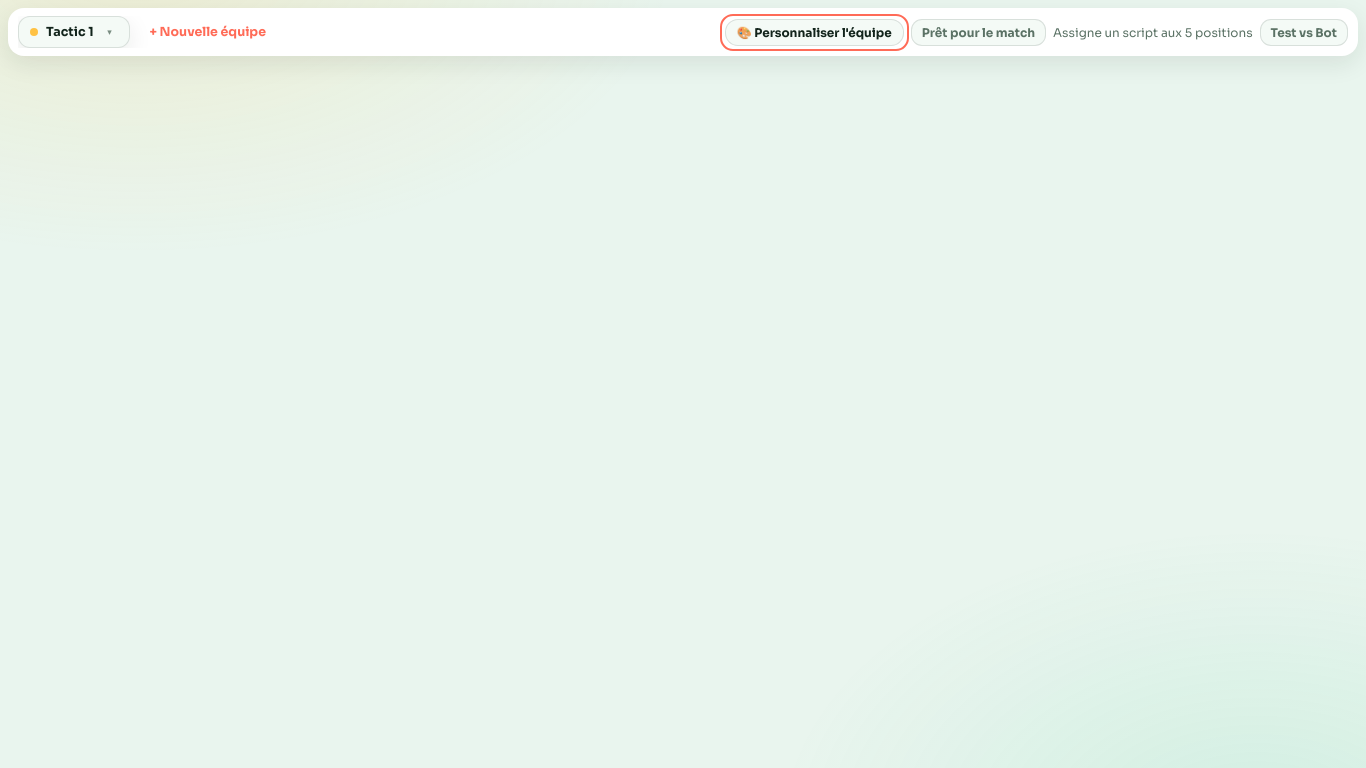
Test case: Teambar Component › should rename through the caret menu with Enter commit
Click the button with test id "team-caret" at (110, 32), box [102, 24, 118, 40]
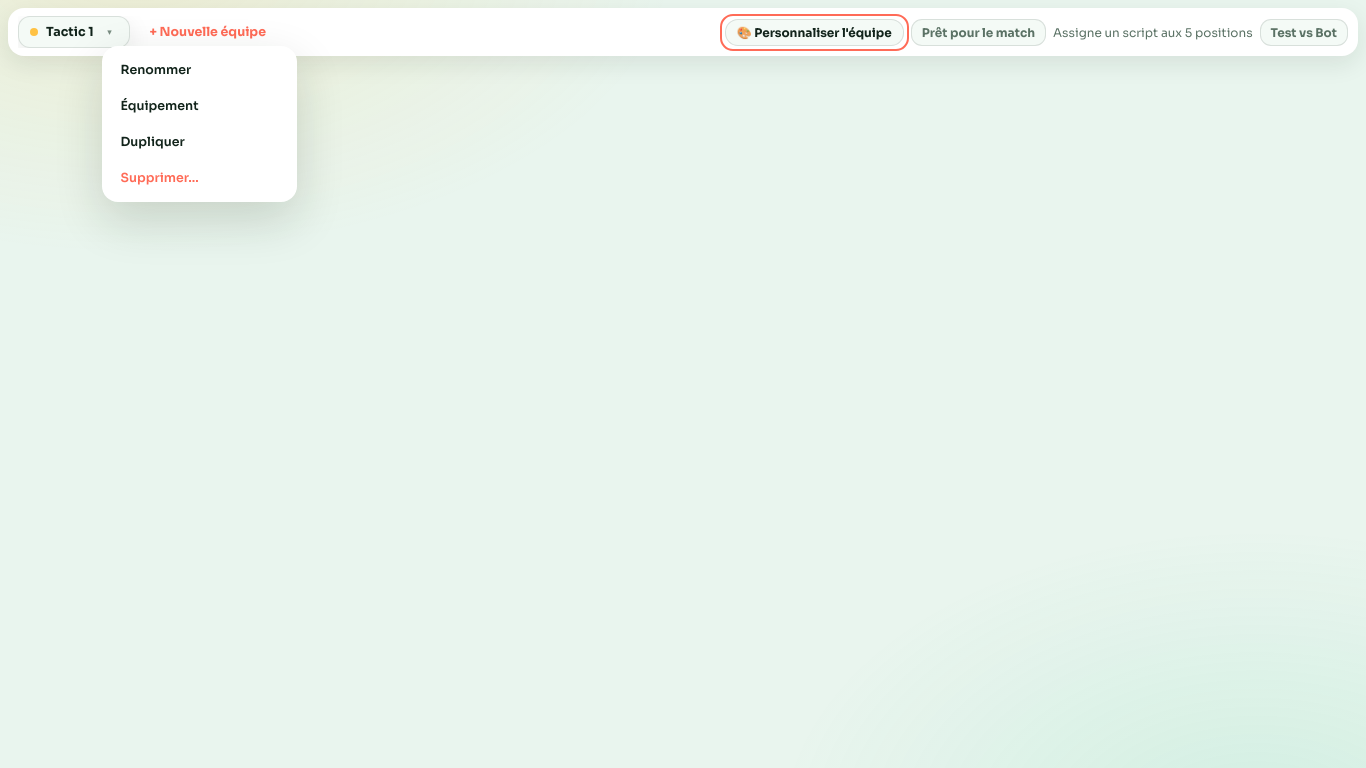
Result: the element with test id "team-menu" is shown at [102, 46, 296, 202]
Click the button with test id "team-rename" at (199, 70), box [108, 53, 290, 87]
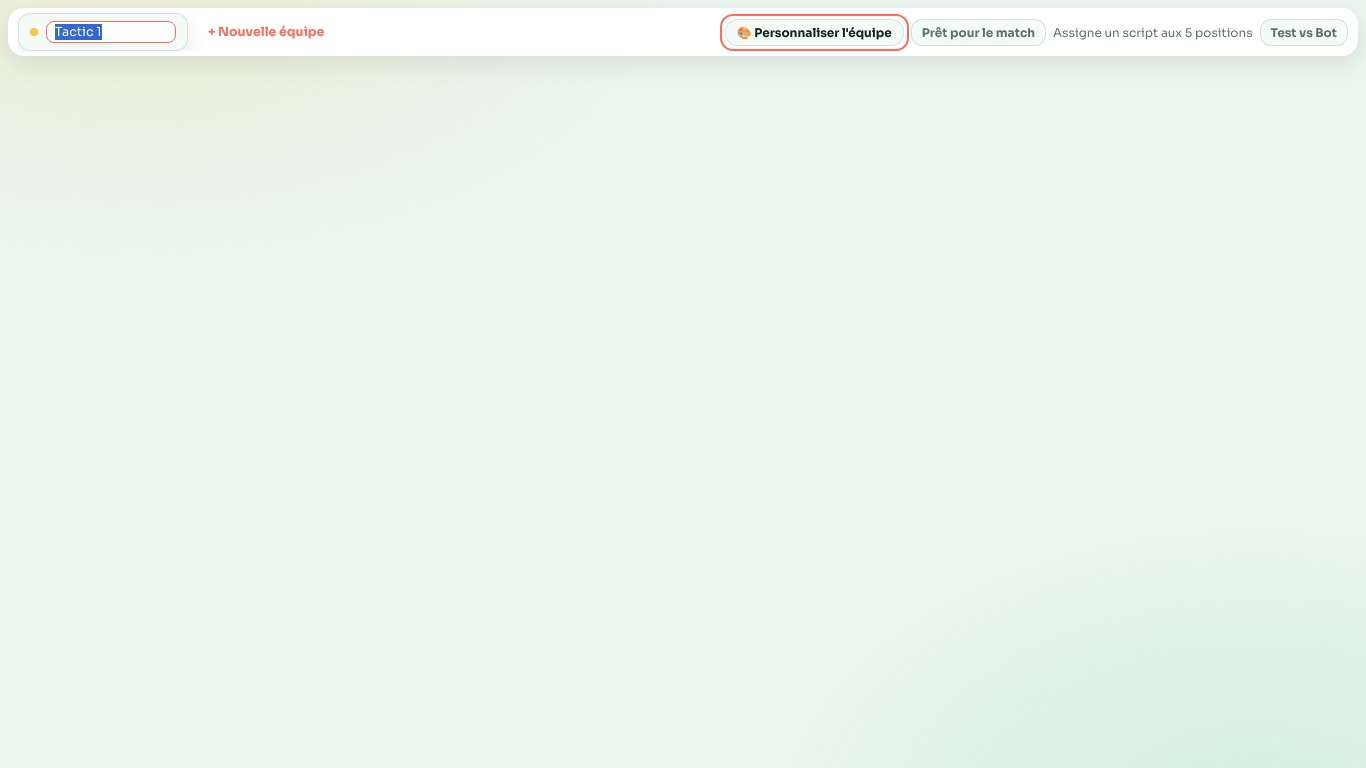
Result: the field with test id "team-rename-input" holds "Tactic 1"
Replace the text in the field with test id "team-rename-input" with "Attacking" at (111, 32), box [46, 21, 176, 43]
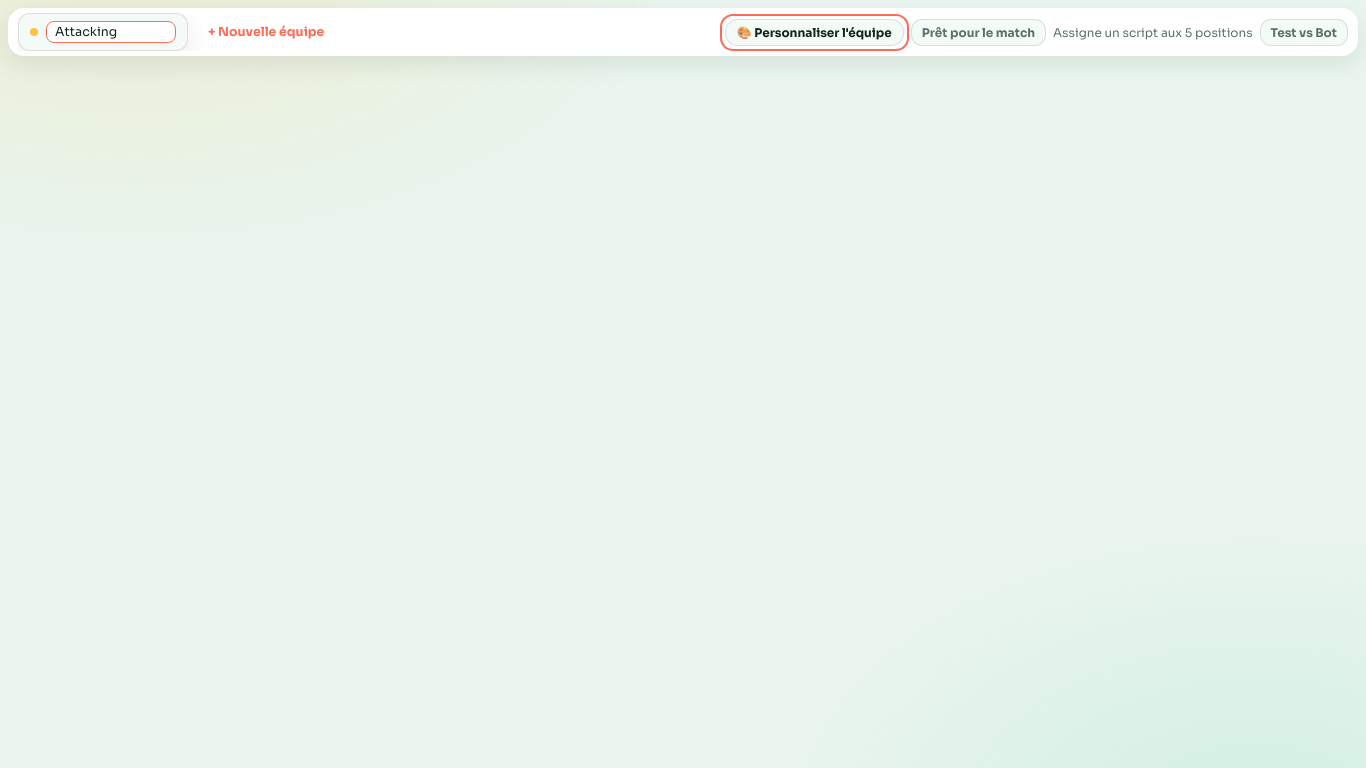
Press Enter in the field with test id "team-rename-input", box [46, 21, 176, 43]
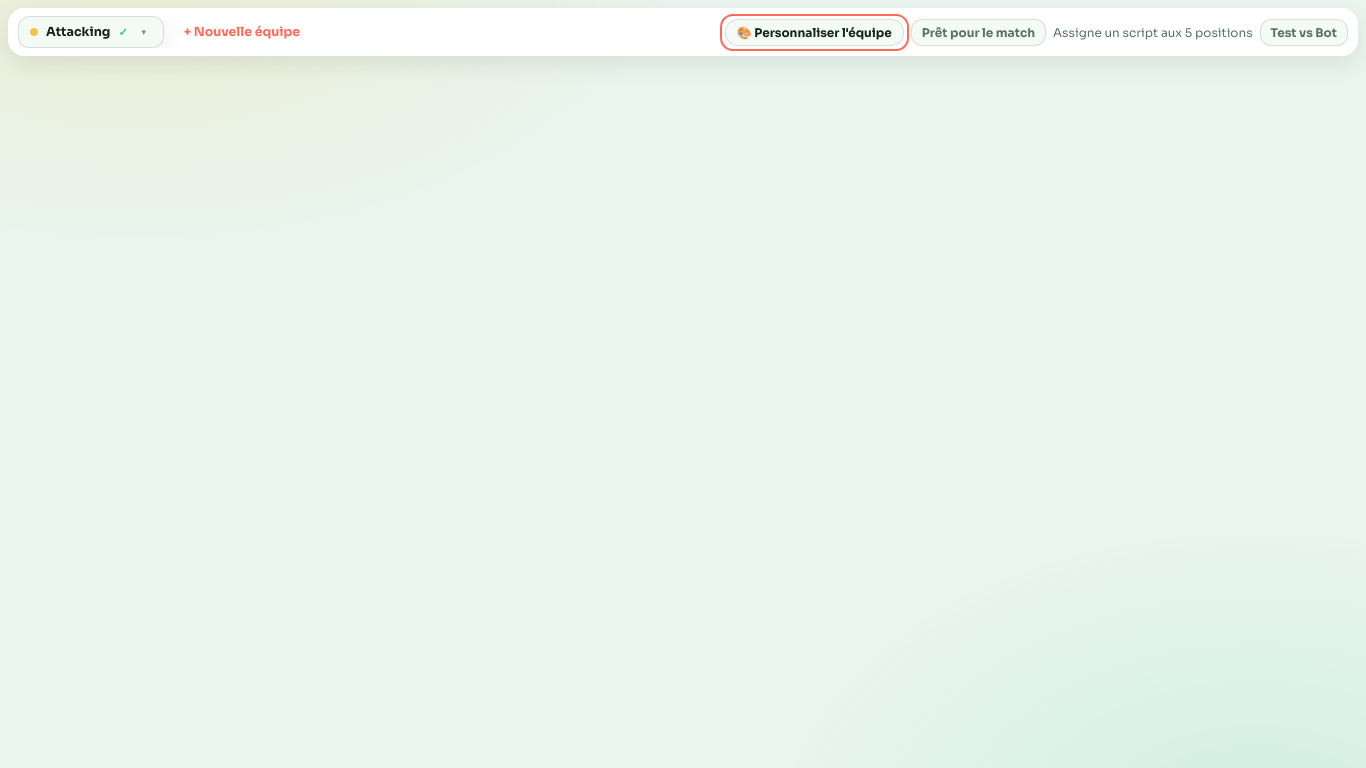
Result: the field with test id "team-rename-input" is gone
